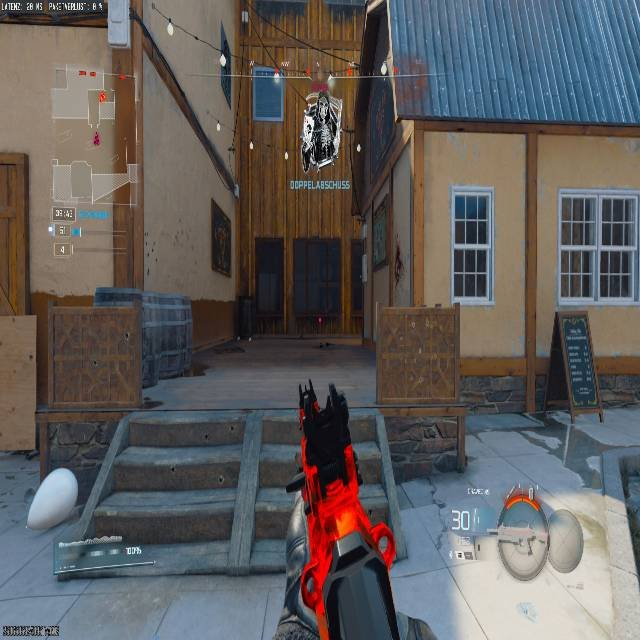player: (300, 86, 340, 171)
